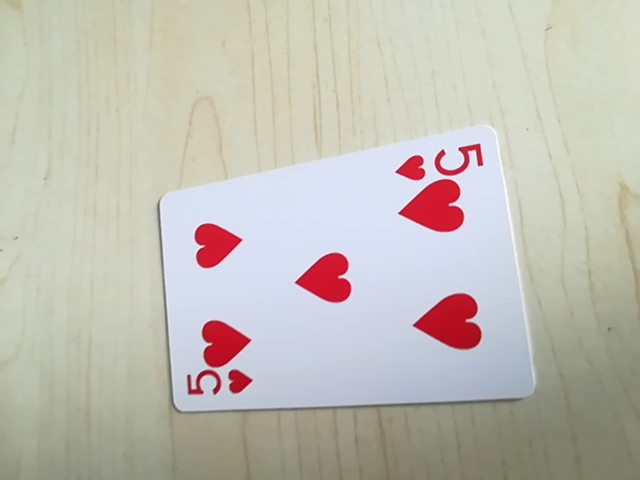hx 5: (394, 137, 490, 182), (180, 365, 256, 406)
